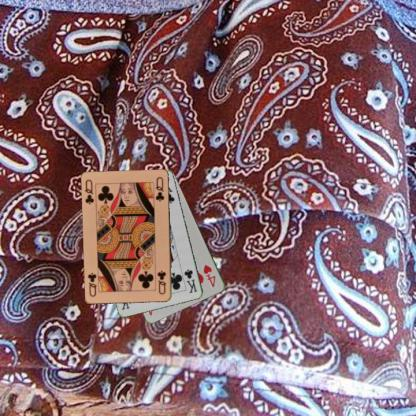4h: (201, 262, 217, 289)
Kc: (182, 267, 198, 295)
Qc: (83, 176, 95, 206), (155, 268, 167, 296)
